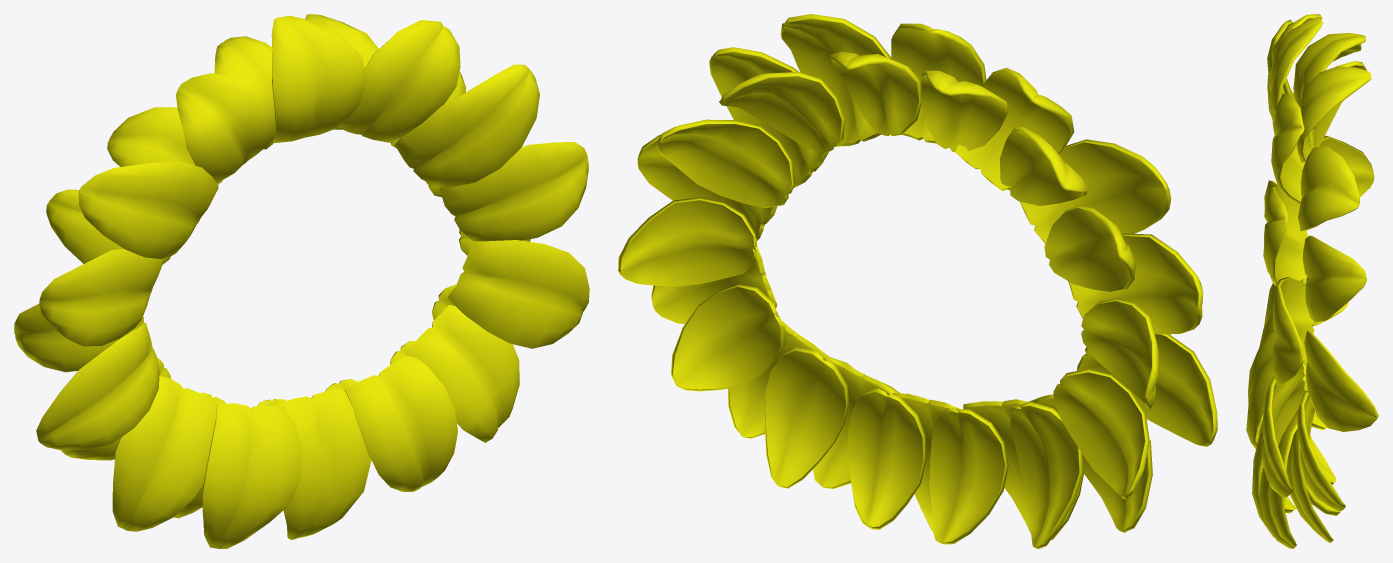
3 views of the same model, side by side, from view 1: azimuth 30°, elevation 25°; view 2: azimuth 150°, elevation 25°; view 3: azimuth 270°, elevation 25° (orthographic). The views are drawn at different scales.
Parts seen in each view (by area): view 1: petal_22, petal_26, petal_8, petal_21, petal_24, petal_17, petal_18, petal_2, petal_27, petal_20, petal_25, petal_23 (+8 smaller); view 2: petal_14, petal_13, petal_12, petal_15, petal_11, petal_10, petal_7, petal_18, petal_9, petal_28, petal_16, petal_27 (+16 smaller); view 3: petal_14, petal_16, petal_15, petal_17, petal_21, petal_22, petal_1, petal_20, petal_13, petal_3, petal_26, petal_23 (+12 smaller).
Part boxes in pixels (x1,y1,x2,y2): petal_22: [447, 240, 589, 348]; petal_26: [202, 403, 302, 548]; petal_8: [112, 376, 217, 531]; petal_21: [395, 64, 539, 187]; petal_24: [345, 355, 457, 491]; petal_17: [439, 142, 588, 241]; petal_18: [78, 162, 218, 258]; petal_2: [271, 15, 367, 142]; petal_27: [36, 322, 159, 449]; petal_20: [338, 20, 460, 142]; petal_25: [277, 388, 371, 539]; petal_23: [407, 305, 519, 442]; petal_14: [618, 197, 756, 286]; petal_13: [671, 284, 784, 391]; petal_12: [764, 347, 849, 488]; petal_15: [655, 119, 795, 207]; petal_11: [847, 388, 926, 529]; petal_10: [929, 407, 1008, 544]; petal_7: [1053, 369, 1149, 499]; petal_18: [1020, 139, 1171, 243]; petal_9: [1010, 401, 1083, 548]; petal_28: [1068, 233, 1203, 334]; petal_16: [719, 72, 845, 152]; petal_27: [1077, 334, 1217, 446]; petal_14: [1304, 331, 1378, 431]; petal_16: [1298, 146, 1359, 231]; petal_15: [1302, 235, 1366, 322]; petal_17: [1272, 277, 1314, 385]; petal_21: [1264, 186, 1307, 285]; petal_22: [1262, 361, 1305, 497]; petal_1: [1296, 66, 1371, 162]; petal_20: [1271, 93, 1304, 205]; petal_13: [1297, 391, 1345, 511]; petal_3: [1293, 33, 1365, 129]; petal_26: [1246, 330, 1277, 448]; petal_23: [1259, 411, 1297, 548].
Bounding box in the file's own units: 0.2302 × 0.2019 × 0.0494.
1 material, 1 textured.
